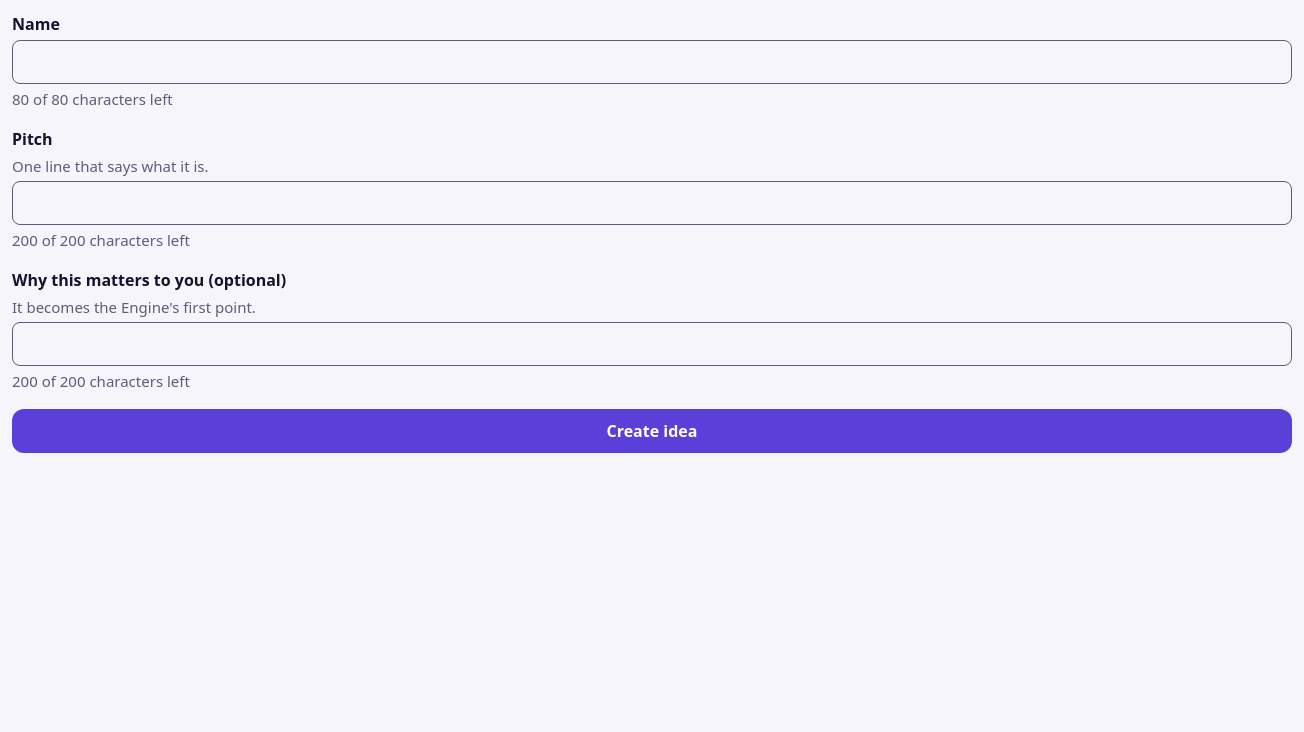
Test: NewRocketForm › says the connection failed when there is no answer
Type "One more" into the field labelled "Name" at [652, 62], box left=12, top=40, right=1292, bottom=84
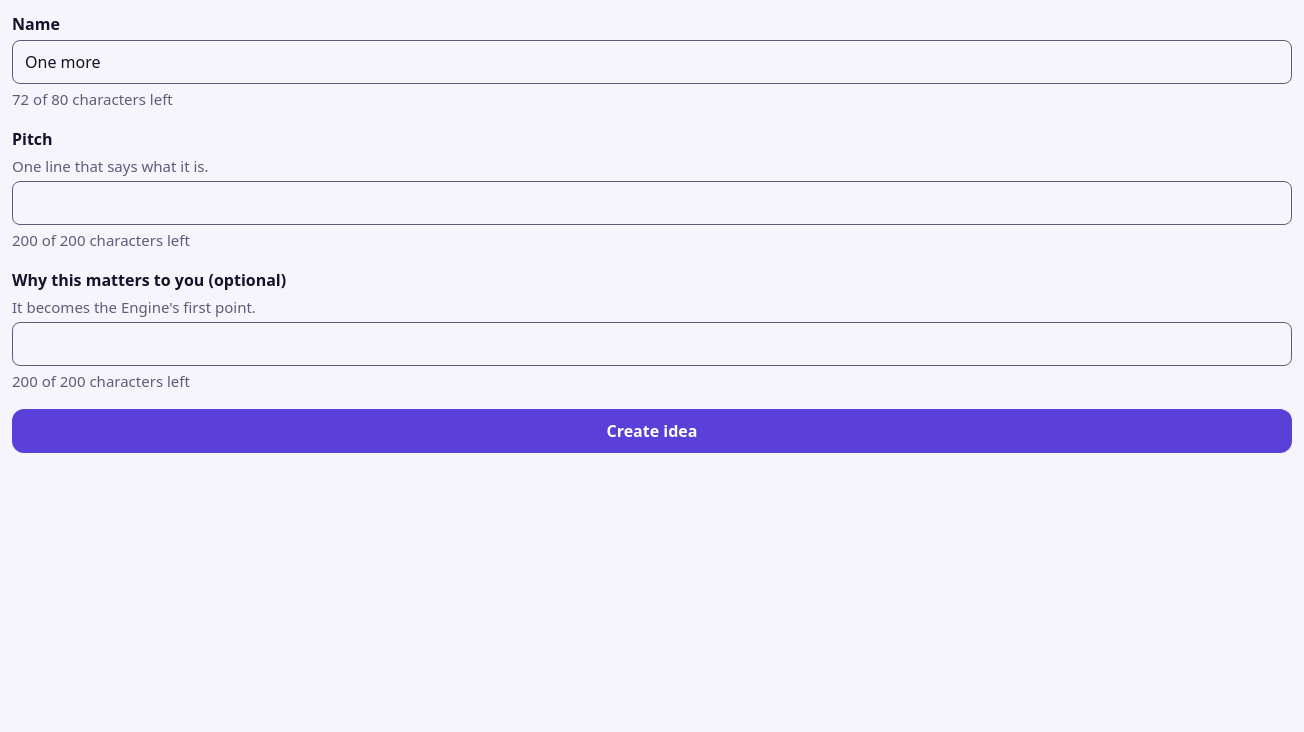
Type "A pitch." into the field labelled "Pitch" at [652, 203], box left=12, top=181, right=1292, bottom=225
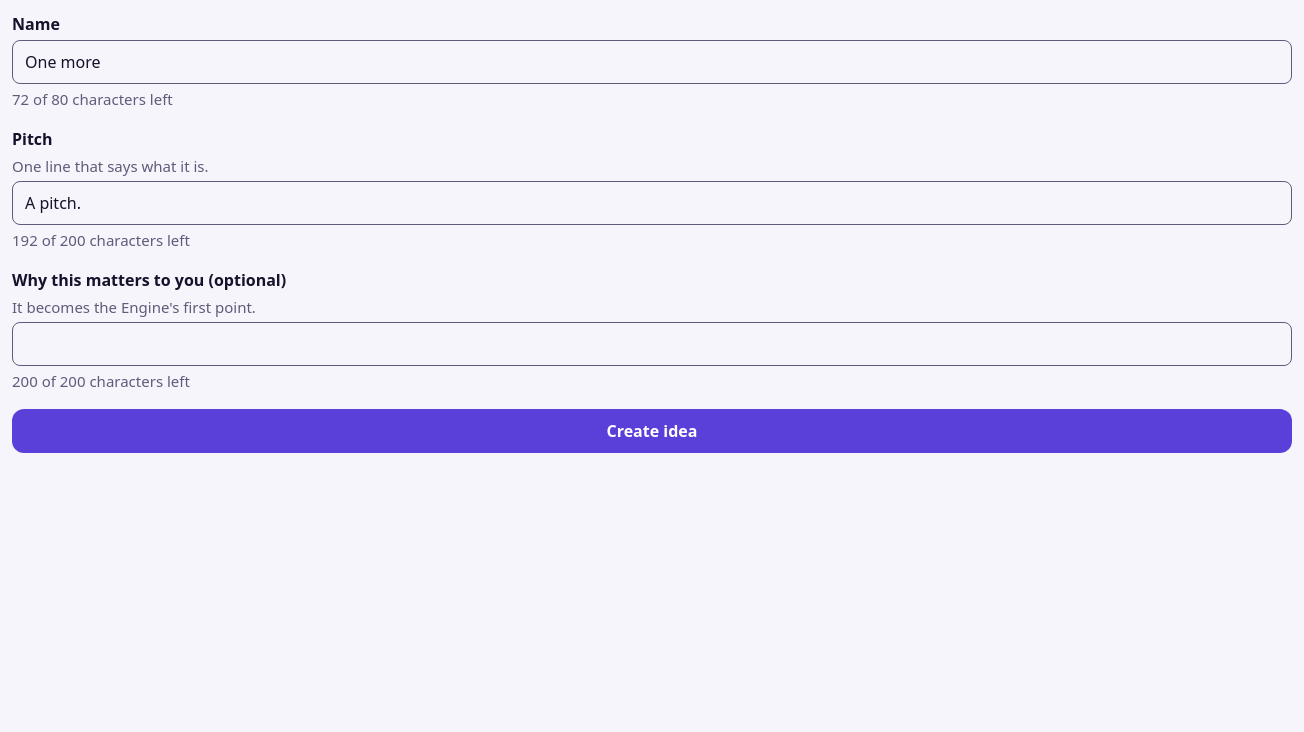
Submit the form named "New idea", box left=12, top=12, right=1292, bottom=452
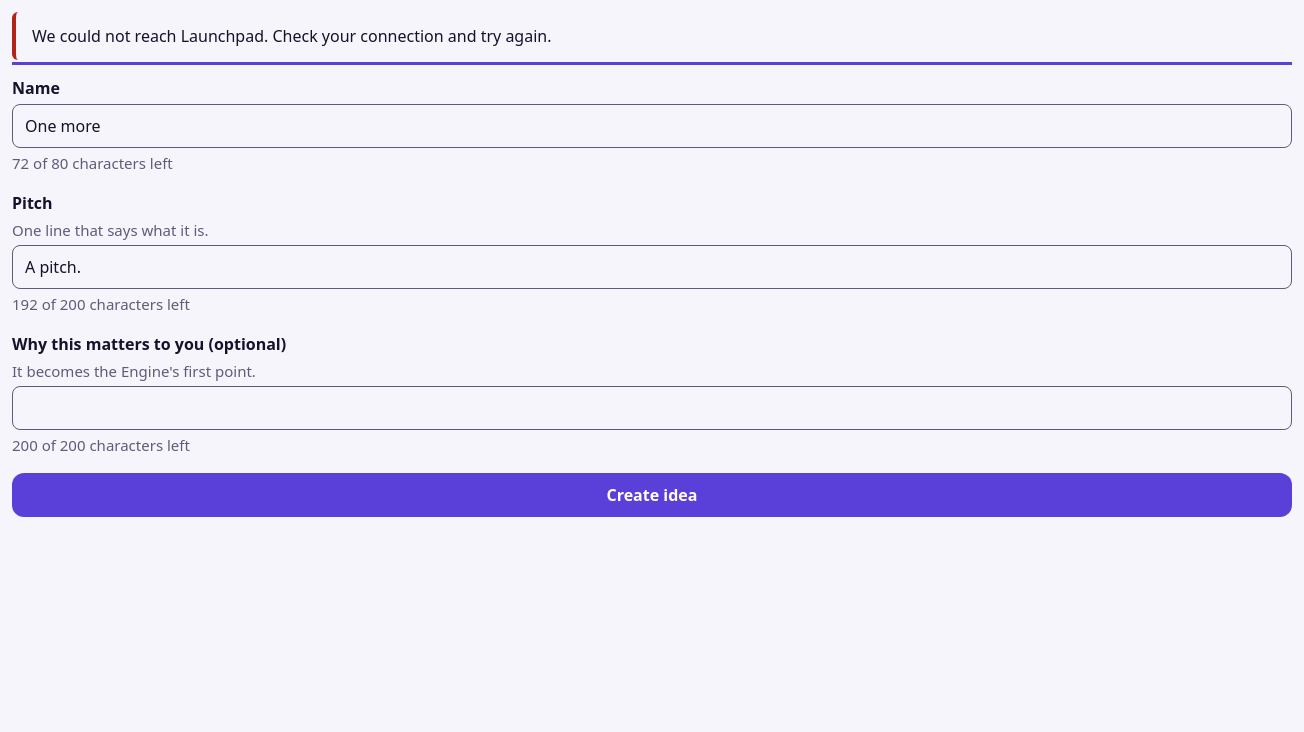
expect the message shows "We could not reach Launchpad.": met, box left=32, top=25, right=552, bottom=47
